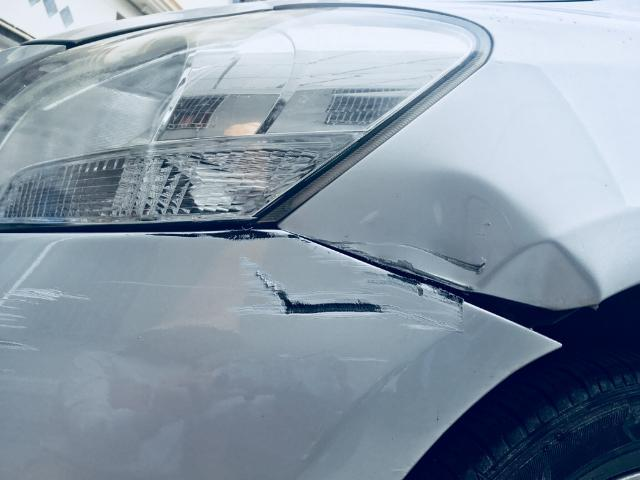dent: (293, 171, 608, 305)
dislocated part: (278, 222, 567, 348)
scratch: (145, 233, 476, 341), (0, 239, 95, 377)
